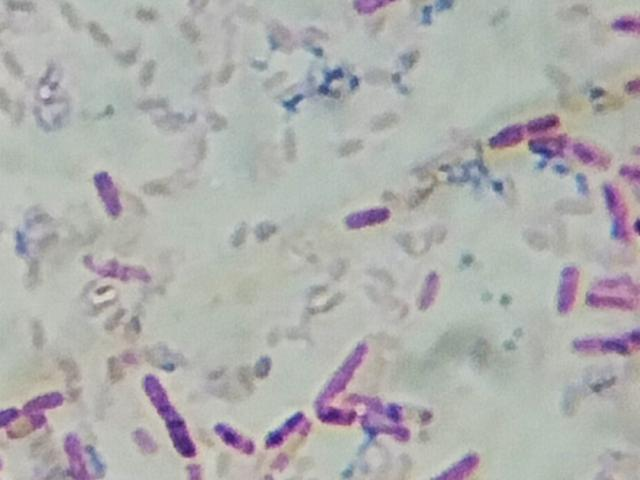E. coli: (146, 370, 202, 459), (316, 342, 376, 390), (85, 250, 156, 290), (256, 405, 309, 449), (579, 326, 640, 363), (89, 163, 123, 226), (349, 389, 425, 416), (542, 136, 606, 166), (601, 182, 631, 242), (59, 427, 94, 478), (551, 255, 581, 314), (433, 446, 485, 480), (591, 276, 634, 314), (491, 113, 530, 152), (342, 202, 389, 234), (211, 420, 250, 456), (525, 110, 566, 137), (418, 267, 442, 311), (362, 416, 408, 438), (28, 390, 65, 417), (621, 59, 640, 111), (611, 9, 640, 43), (616, 158, 640, 193), (322, 402, 346, 426), (0, 398, 19, 428)
